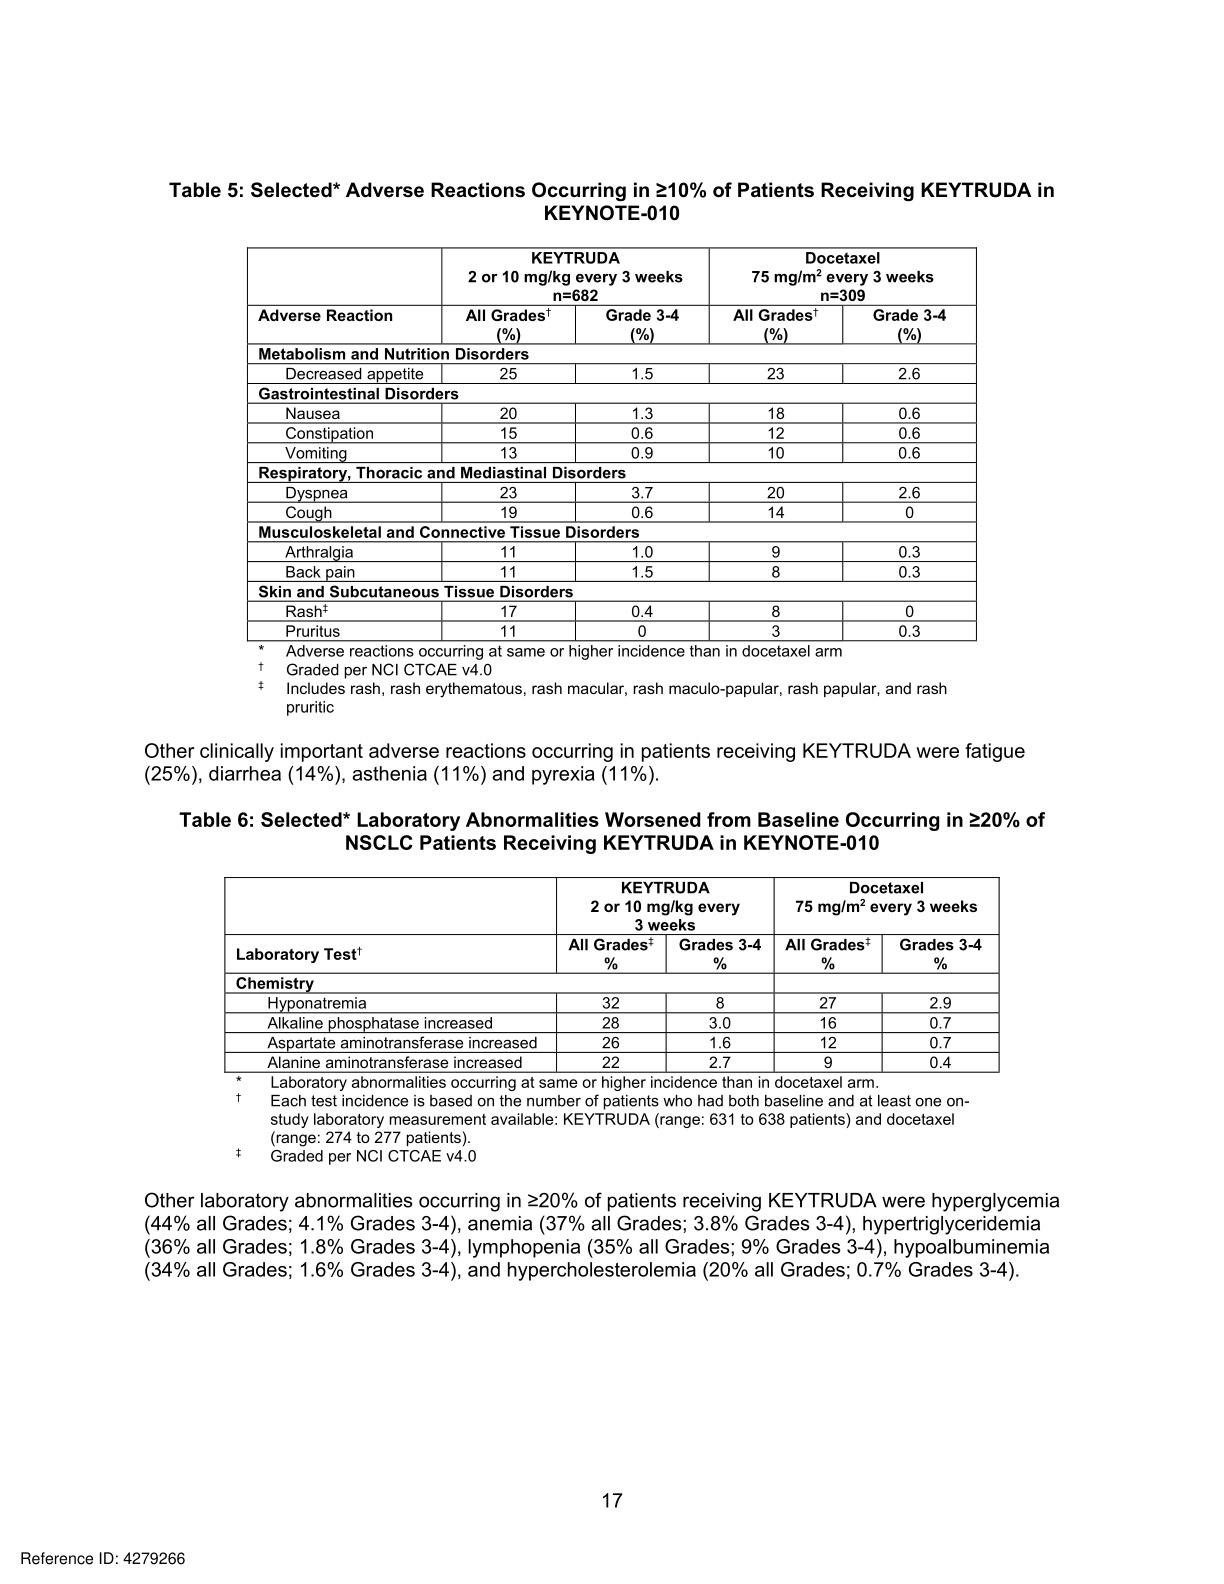merged_cells: (246, 246, 978, 643), (222, 876, 1002, 1074)
